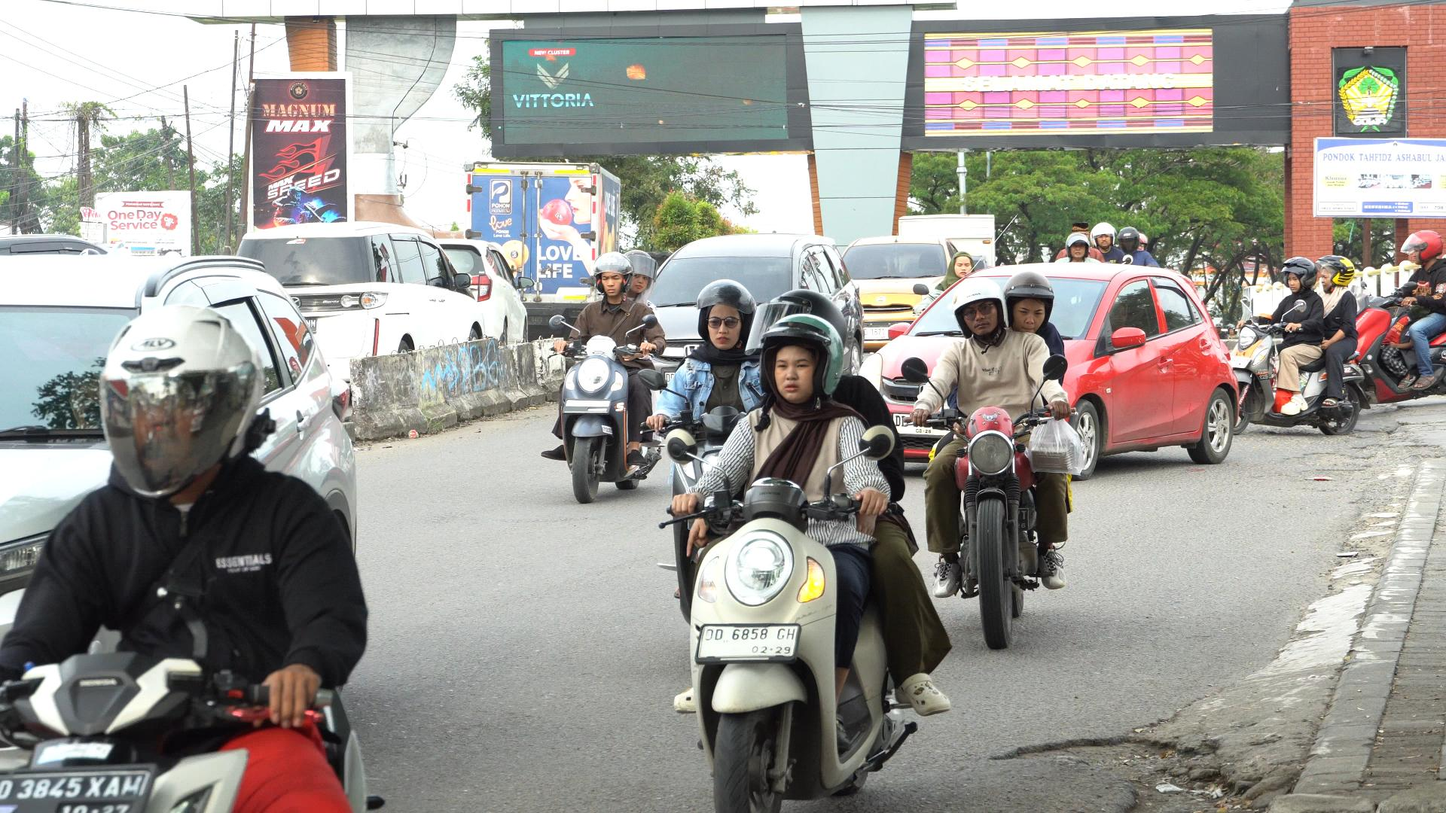number-plate: (693, 622, 803, 662)
